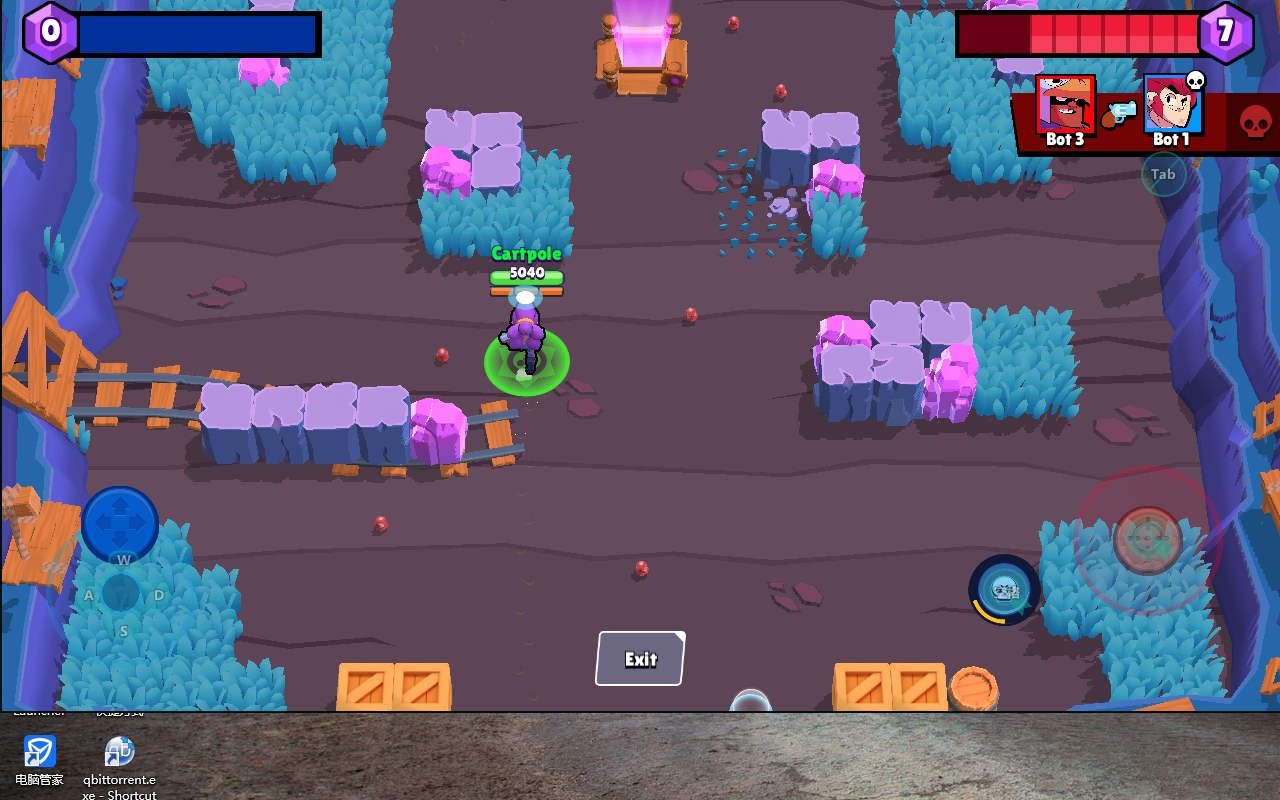current_player: (484, 327, 571, 396)
